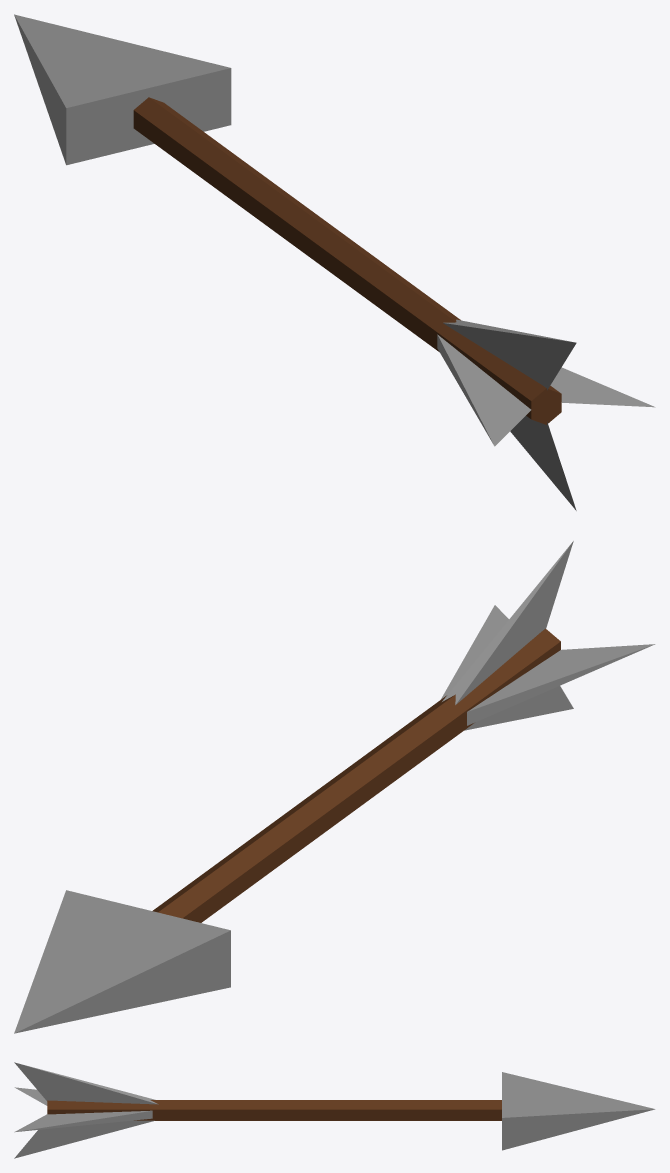
The model's file is arrow.fbx.
The picture shows the model from 3 angles, top to bottom: view 1: azimuth 30°, elevation 25°; view 2: azimuth 150°, elevation 25°; view 3: azimuth 270°, elevation 25°; orthographic projection. The views are drawn at different scales.
Visible parts, largest first — view 1: Cone, Cylinder, Cone.003, Cone.002, Cone.004, Cone.001; view 2: Cone, Cylinder, Cone.003, Cone.002, Cone.004, Cone.001; view 3: Cylinder, Cone, Cone.003, Cone.004, Cone.001, Cone.002.
Boxes of the visible parts, bbox=[...] form: Cone: bbox=[14, 14, 231, 165]; Cylinder: bbox=[133, 97, 561, 424]; Cone.003: bbox=[443, 319, 576, 390]; Cone.002: bbox=[437, 334, 531, 446]; Cone.004: bbox=[510, 416, 576, 510]; Cone.001: bbox=[550, 367, 655, 407]; Cone: bbox=[14, 890, 230, 1033]; Cylinder: bbox=[152, 628, 560, 922]; Cone.003: bbox=[442, 541, 573, 704]; Cone.002: bbox=[467, 644, 655, 725]; Cone.004: bbox=[464, 686, 573, 730]; Cone.001: bbox=[441, 605, 508, 699]; Cylinder: bbox=[47, 1100, 501, 1120]; Cone: bbox=[502, 1072, 655, 1150]; Cone.003: bbox=[14, 1062, 158, 1104]; Cone.004: bbox=[14, 1120, 154, 1158]; Cone.001: bbox=[14, 1110, 152, 1132]; Cone.002: bbox=[14, 1087, 47, 1105].
Bounding box in the file's own units: 70.71 × 69.08 × 417.
